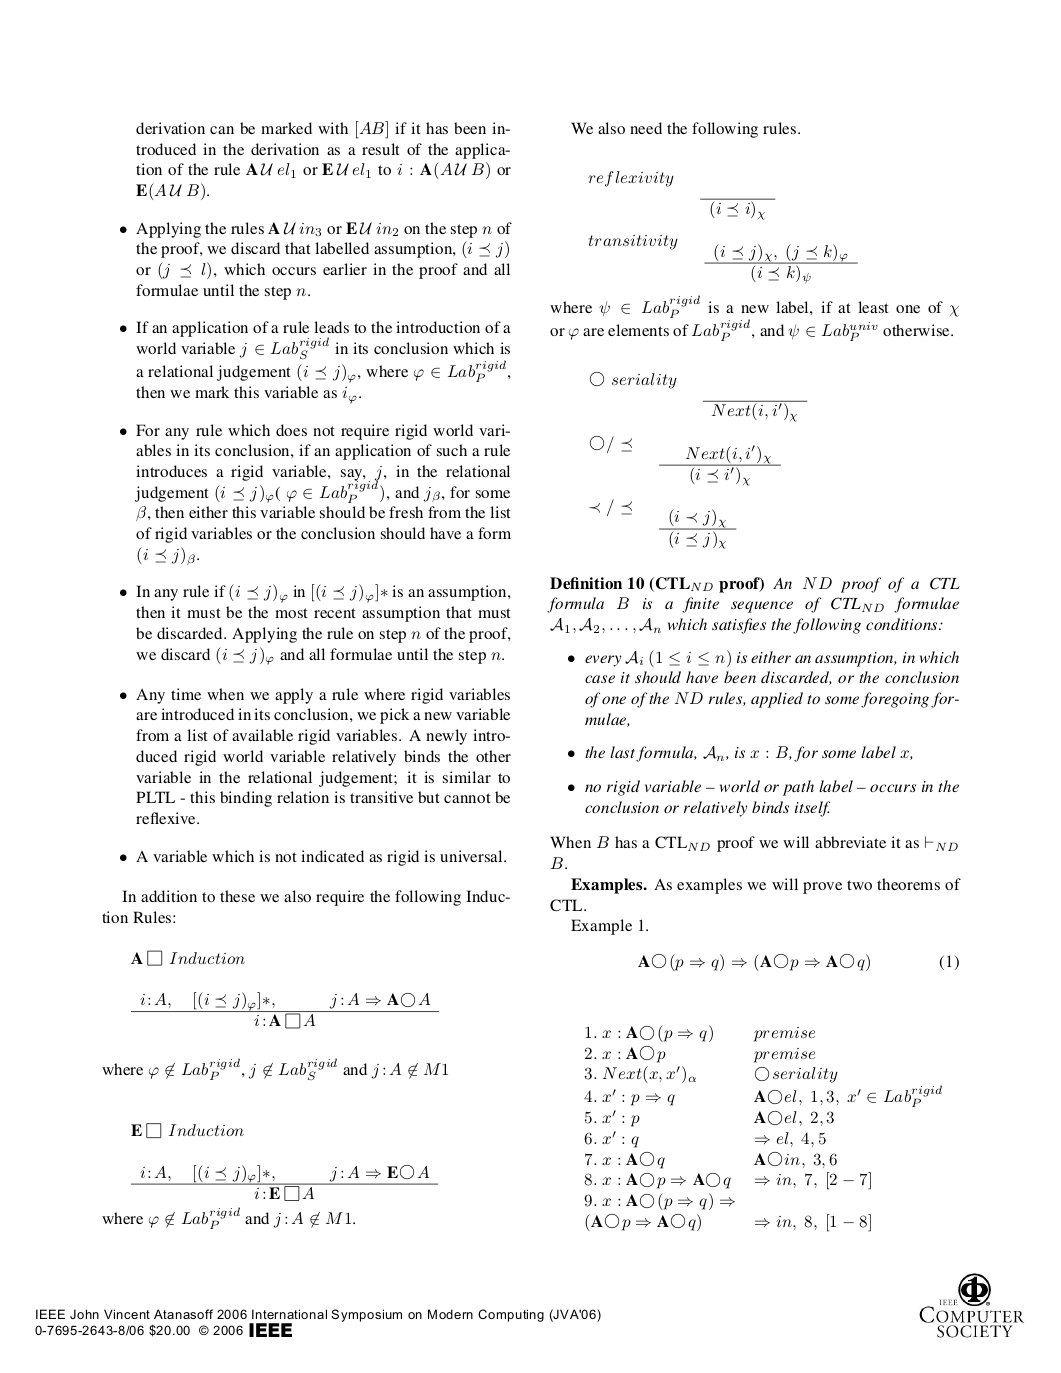figure: (919, 1273, 1023, 1337)
formula: (132, 991, 439, 1029), (132, 1163, 438, 1201), (588, 434, 780, 486), (584, 1084, 941, 1107), (588, 498, 736, 549), (637, 952, 958, 972), (704, 244, 857, 283), (584, 1171, 870, 1190), (585, 1213, 870, 1231), (584, 1065, 837, 1084), (585, 1150, 836, 1169), (584, 1109, 833, 1127), (584, 1044, 815, 1063), (585, 1024, 815, 1043), (584, 1130, 825, 1148), (584, 1192, 734, 1211), (702, 399, 807, 422), (700, 197, 775, 220)
